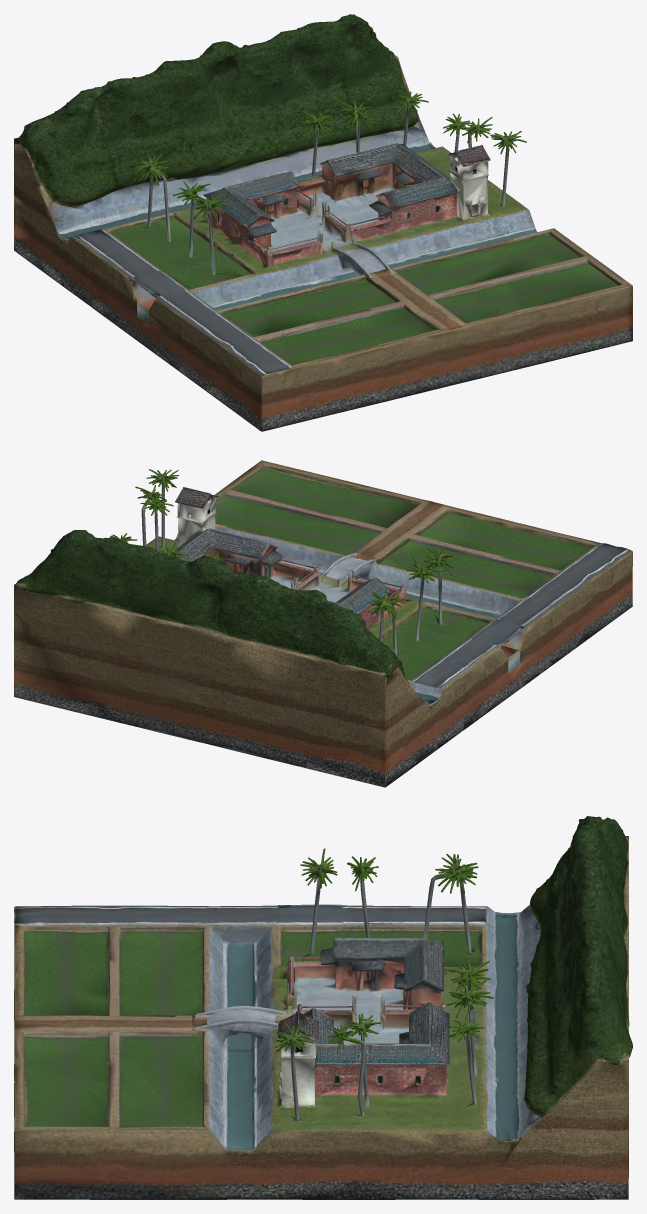
File: meinong.glb
3 views of the same model, one above another, from view 1: azimuth 30°, elevation 25°; view 2: azimuth 150°, elevation 25°; view 3: azimuth 270°, elevation 25° (orthographic). The views are drawn at different scales.
Visible parts, largest first — view 1: tripo_node_4714c7e7-6877-433e-88c6-e04e1e61f63b; view 2: tripo_node_4714c7e7-6877-433e-88c6-e04e1e61f63b; view 3: tripo_node_4714c7e7-6877-433e-88c6-e04e1e61f63b.
Part boxes in pixels (x1,y1,x2,y2): tripo_node_4714c7e7-6877-433e-88c6-e04e1e61f63b: [14, 14, 632, 431]; tripo_node_4714c7e7-6877-433e-88c6-e04e1e61f63b: [14, 460, 632, 787]; tripo_node_4714c7e7-6877-433e-88c6-e04e1e61f63b: [14, 816, 632, 1199].
Bounding box in the file's own units: 0.4001 × 0.174 × 0.46.
Materials: 1 (1 with a texture image).
